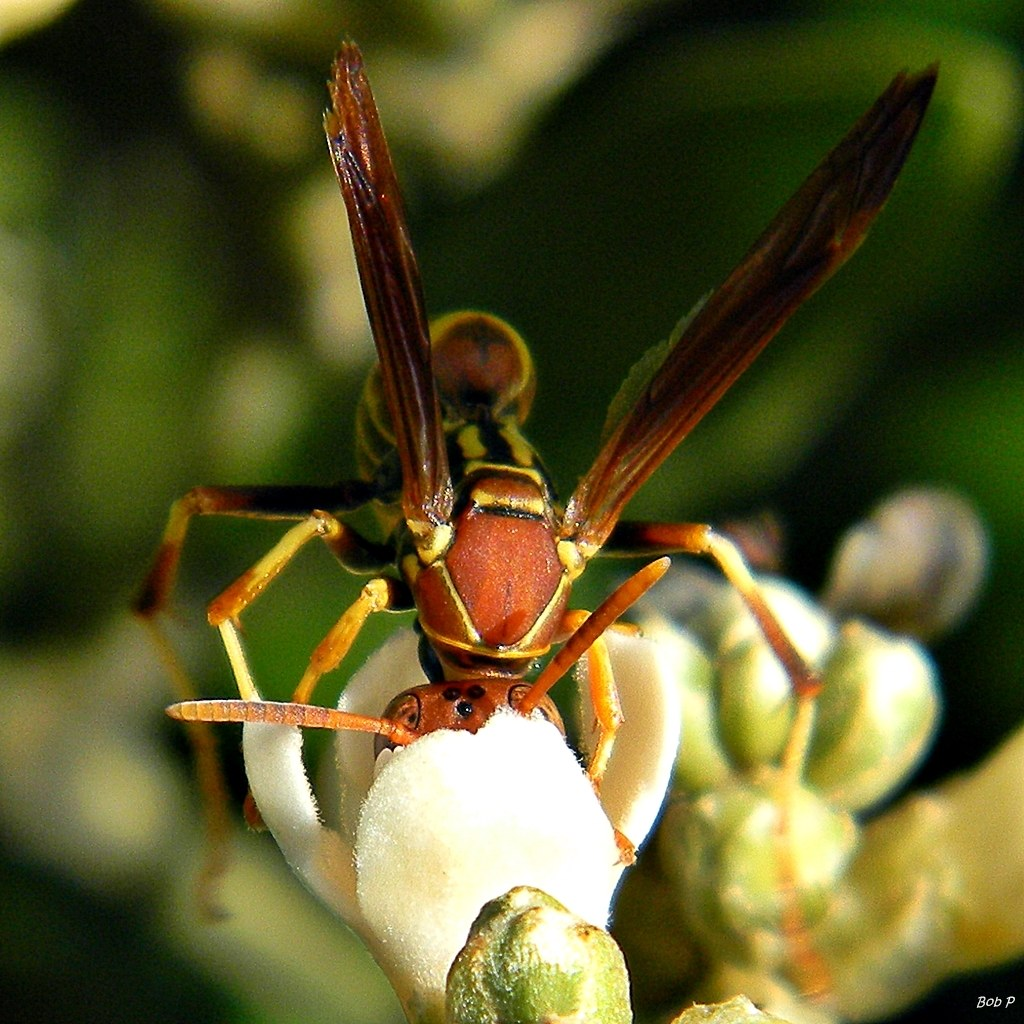insect: (132, 29, 948, 1004)
